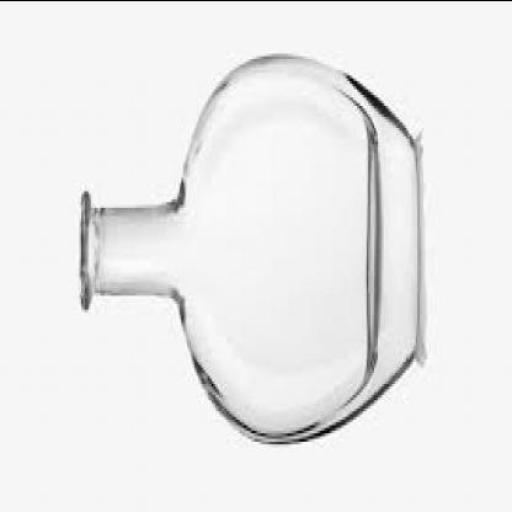glass: (78, 58, 416, 443)
